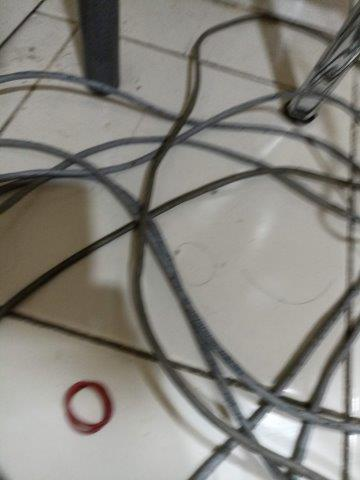karet: (63, 379, 113, 435)
